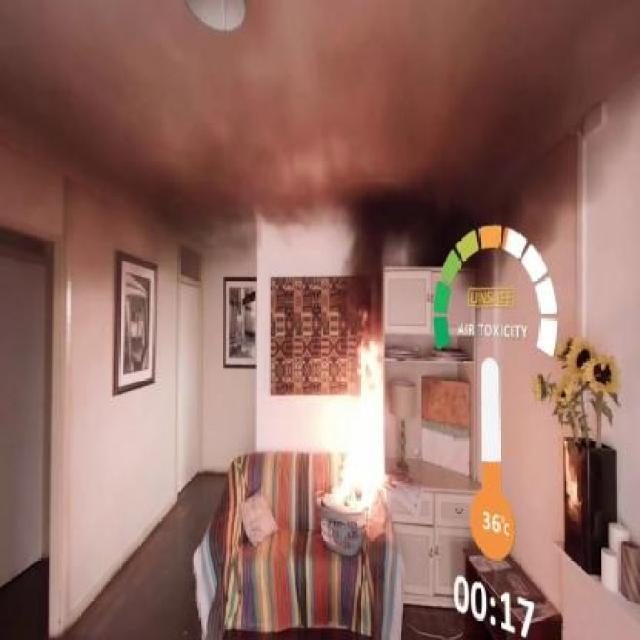fire: (302, 322, 408, 544)
smoke: (305, 170, 470, 318)
